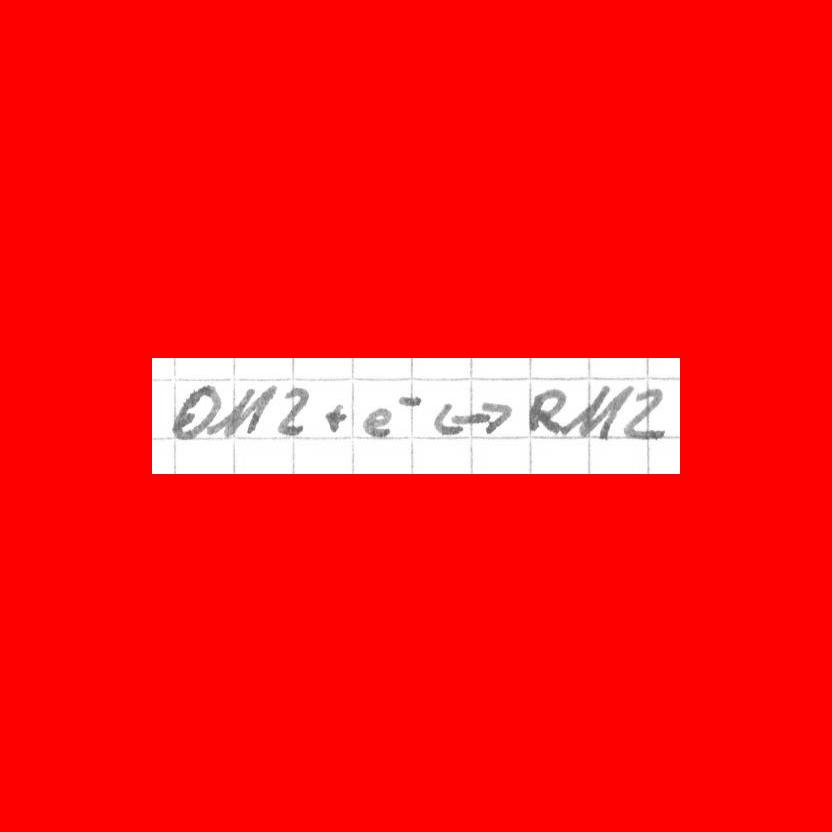Char: (435, 395, 507, 441), (216, 381, 273, 439), (566, 383, 623, 439), (168, 384, 222, 440), (625, 385, 665, 440), (525, 384, 566, 434), (276, 385, 311, 437), (361, 404, 392, 440), (323, 400, 350, 434), (397, 392, 425, 408)
